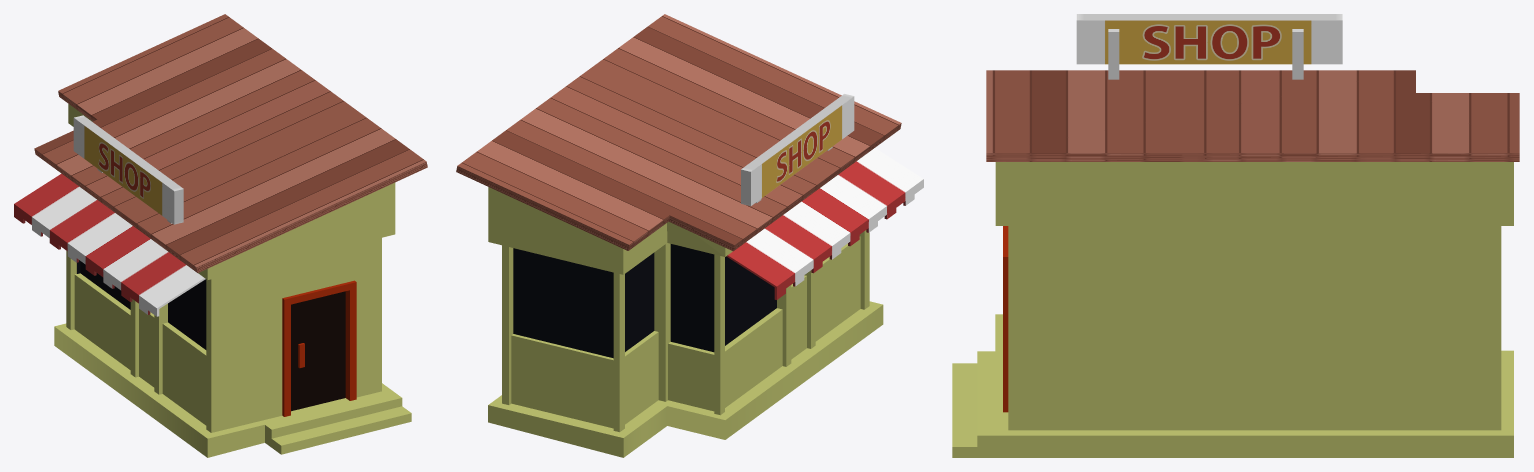
The model's file is shop_1.FBX.
The picture shows the model from 3 angles, left to right: view 1: azimuth 30°, elevation 25°; view 2: azimuth 150°, elevation 25°; view 3: azimuth 270°, elevation 25°; orthographic projection. The views are drawn at different scales.
Visible parts, largest first — view 1: Box1523, Box1519, shop_floor_003, Box1520, shop_front_sides_003, shop_underroof_003, shop_door_003, Box1521, shop_doorframe_003, shop_windows_003, shop_over_windows_003; view 2: Box1523, shop_front_sides_003, shop_windows_003, Box1520, shop_floor_003, Box1519, shop_underroof_003, Box1521, shop_over_windows_003; view 3: Box1519, Box1523, shop_underroof_003, shop_floor_003, Box1521, Box1522, shop_doorframe_003.
Part boxes in pixels (bbox=[...]): Box1523: bbox=[34, 14, 427, 272]; Box1519: bbox=[66, 237, 381, 432]; shop_floor_003: bbox=[54, 323, 411, 457]; Box1520: bbox=[14, 173, 205, 316]; shop_front_sides_003: bbox=[74, 275, 206, 425]; shop_underroof_003: bbox=[68, 104, 395, 279]; shop_door_003: bbox=[291, 291, 345, 411]; Box1521: bbox=[73, 115, 183, 224]; shop_doorframe_003: bbox=[282, 280, 356, 416]; shop_windows_003: bbox=[77, 260, 206, 349]; shop_over_windows_003: bbox=[74, 262, 206, 355]; Box1523: bbox=[456, 14, 901, 251]; shop_front_sides_003: bbox=[511, 237, 860, 428]; shop_windows_003: bbox=[513, 244, 776, 358]; Box1520: bbox=[726, 148, 923, 299]; shop_floor_003: bbox=[488, 301, 883, 457]; Box1519: bbox=[502, 230, 869, 432]; shop_underroof_003: bbox=[488, 187, 732, 274]; Box1521: bbox=[741, 93, 854, 206]; shop_over_windows_003: bbox=[511, 234, 860, 360]; Box1519: bbox=[1008, 226, 1501, 430]; Box1523: bbox=[986, 70, 1519, 161]; shop_underroof_003: bbox=[995, 162, 1513, 225]; shop_floor_003: bbox=[952, 314, 1513, 457]; Box1521: bbox=[1076, 14, 1342, 64]; Box1522: bbox=[1108, 29, 1303, 79]; shop_doorframe_003: bbox=[1003, 226, 1008, 412].
Size of the model in its own units: 12.29 by 11.05 by 17.42.
7 materials, 3 textured.
